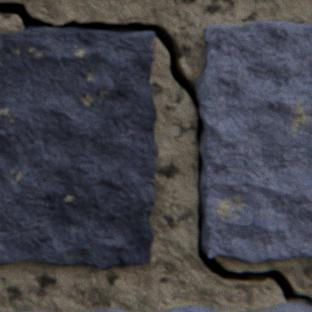brick: (0, 27, 157, 268), (195, 21, 311, 261), (0, 302, 311, 311)
crack: (0, 1, 311, 309)
